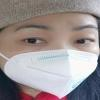mask: (2, 48, 100, 98)
